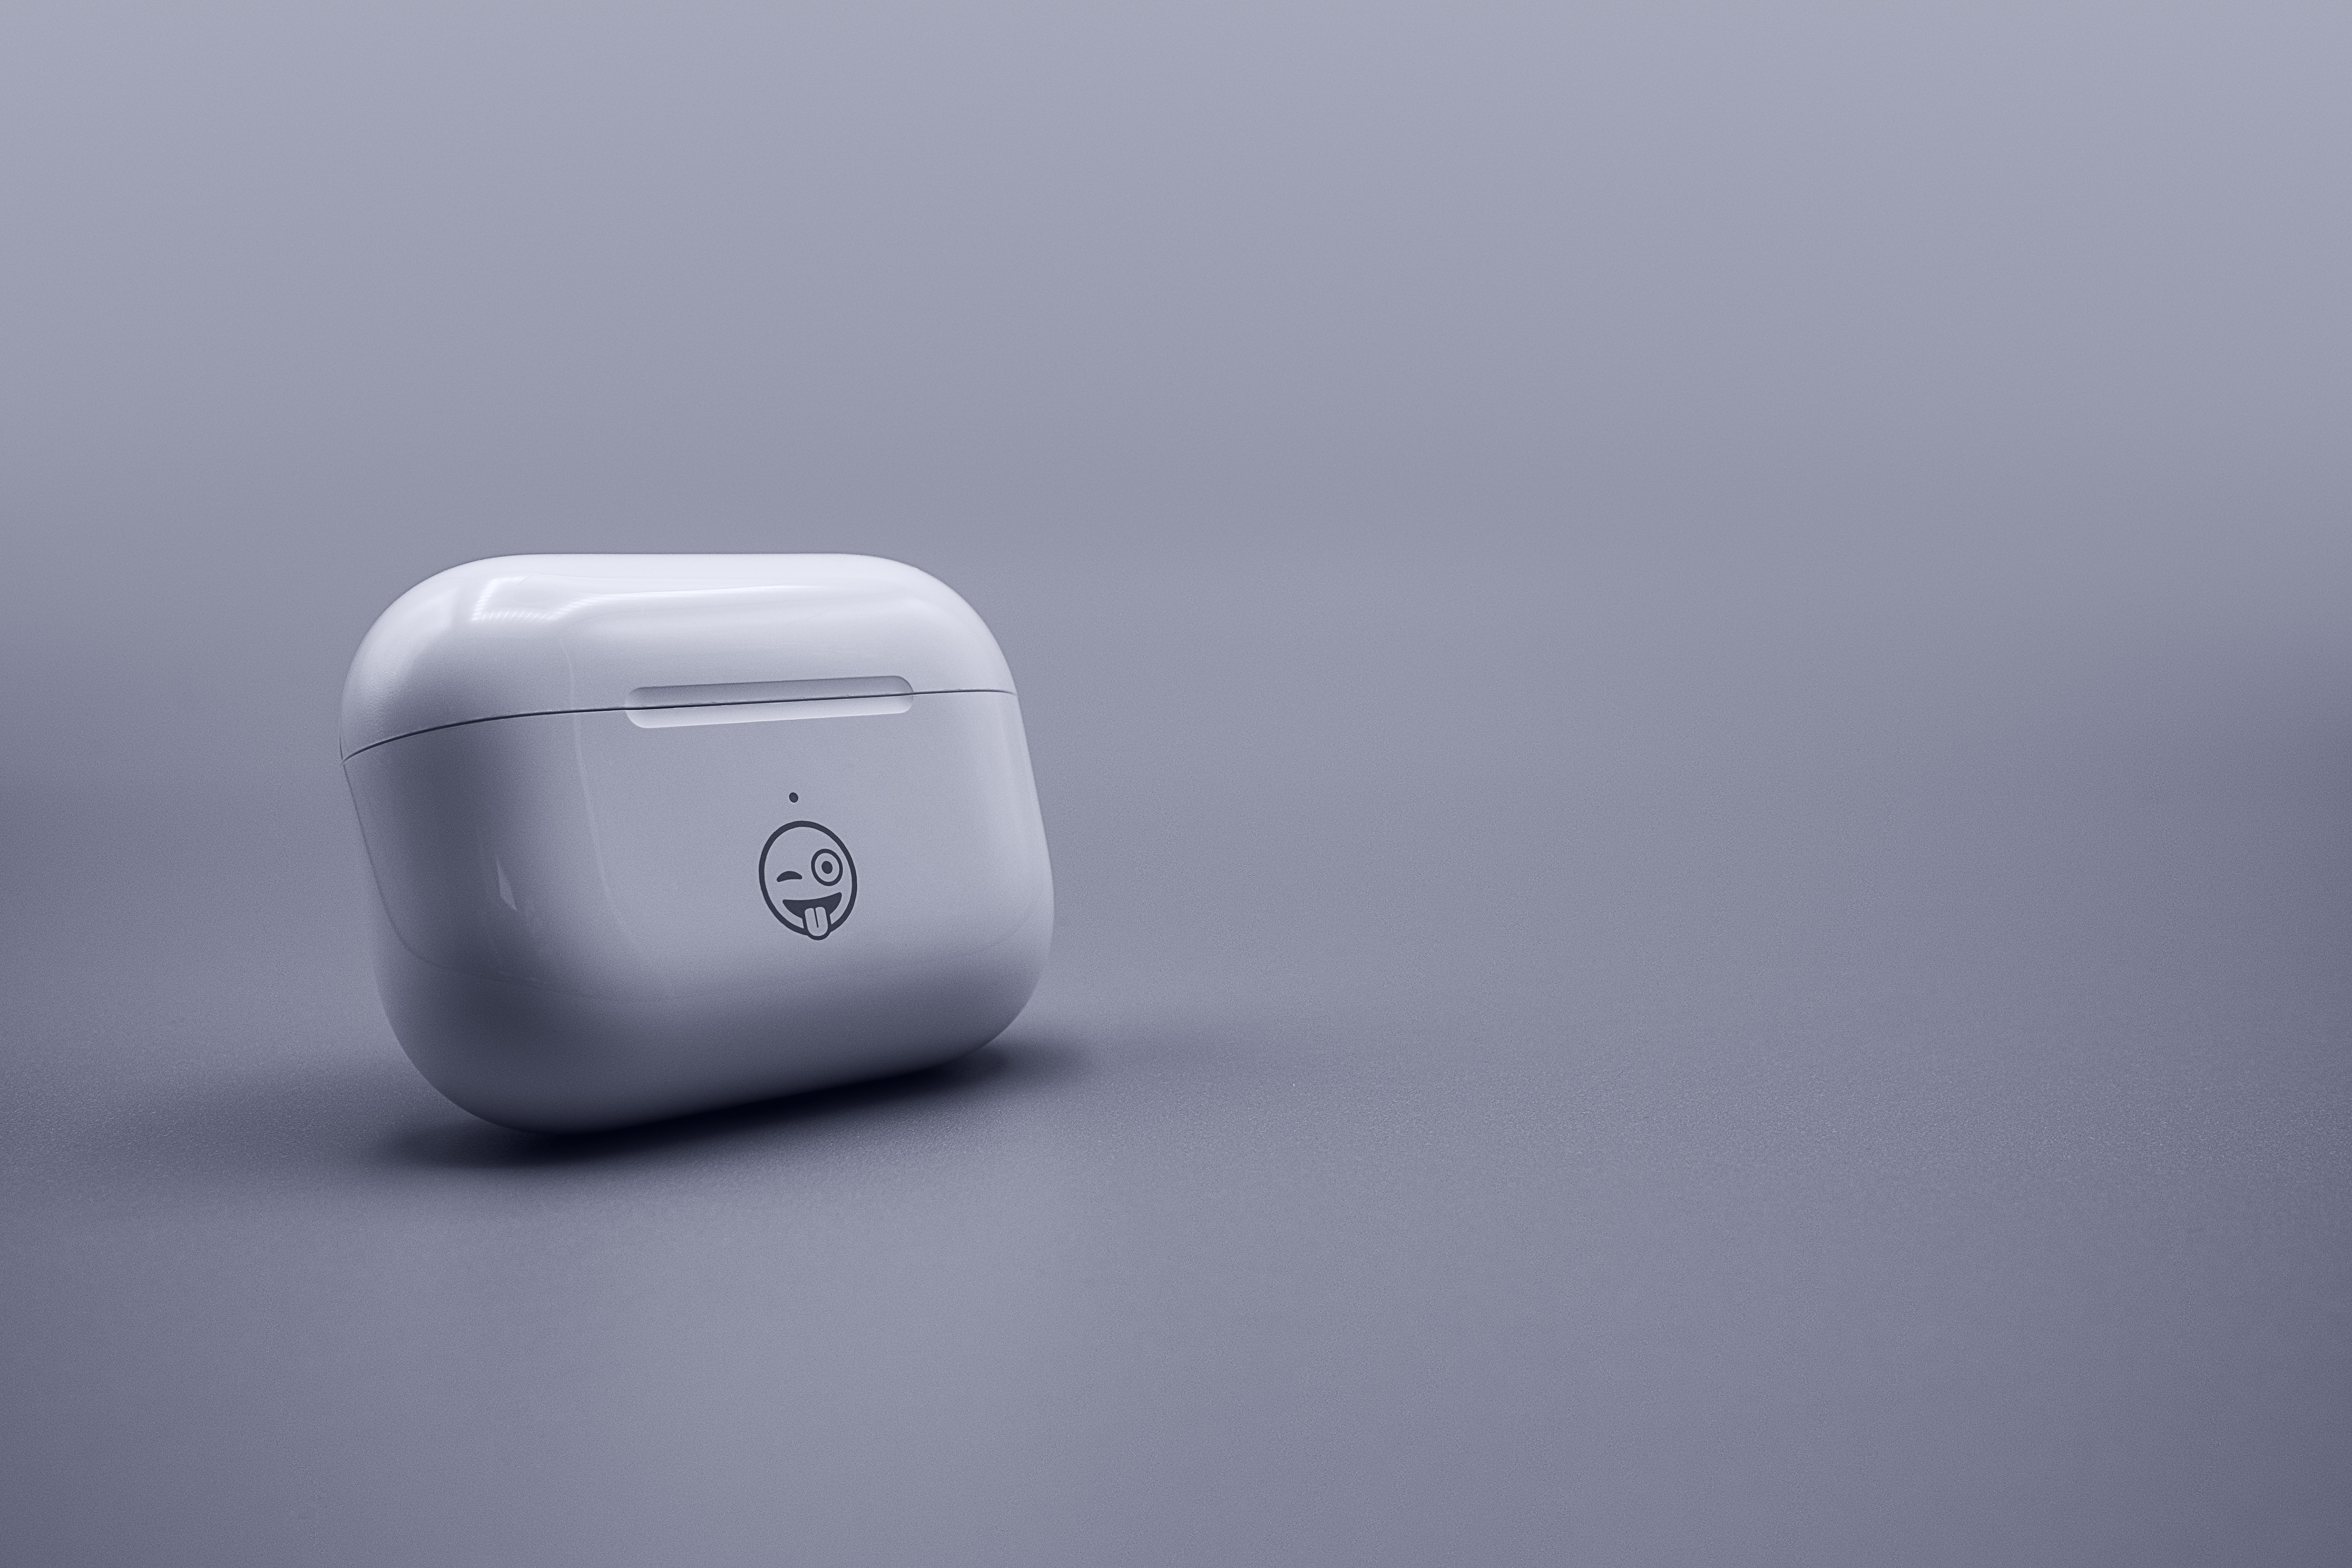airpods: (327, 543, 1066, 1157)
